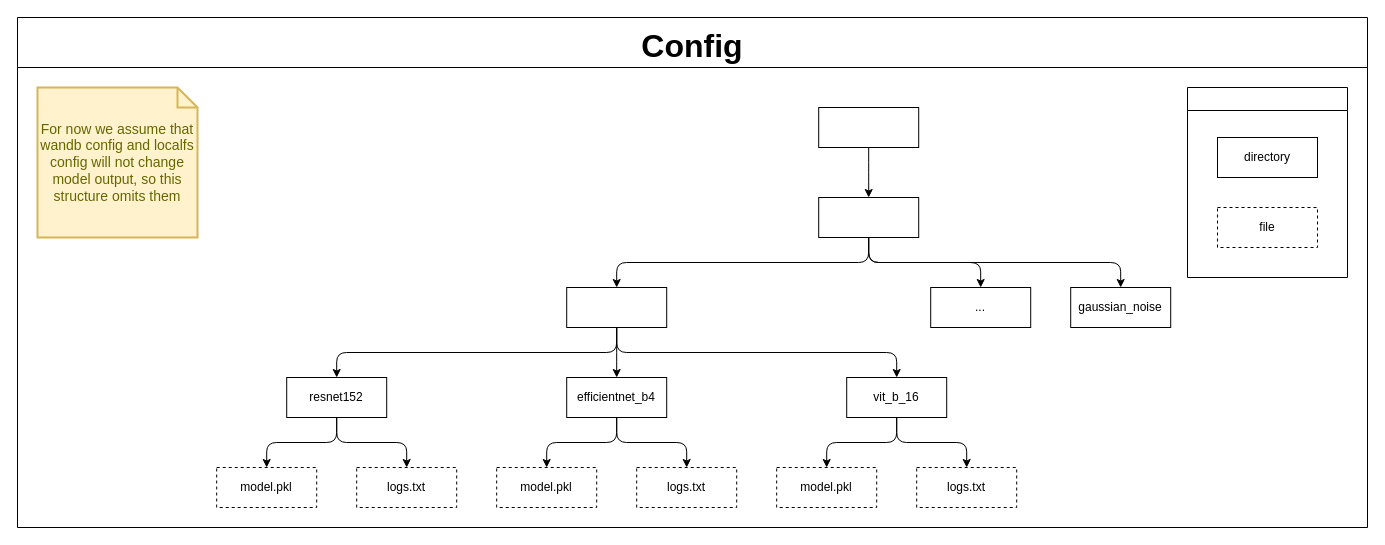
The diagram is 1385 pixels wide and 545 high, and some of its shapes have lost their labels. Here are the shapes that lost their labels. From the top down, the box of each, then its label:
(818, 106, 919, 148): output
(1186, 86, 1348, 278): Legend
(818, 196, 919, 238): imagenet2012
(566, 286, 667, 328): white_box
